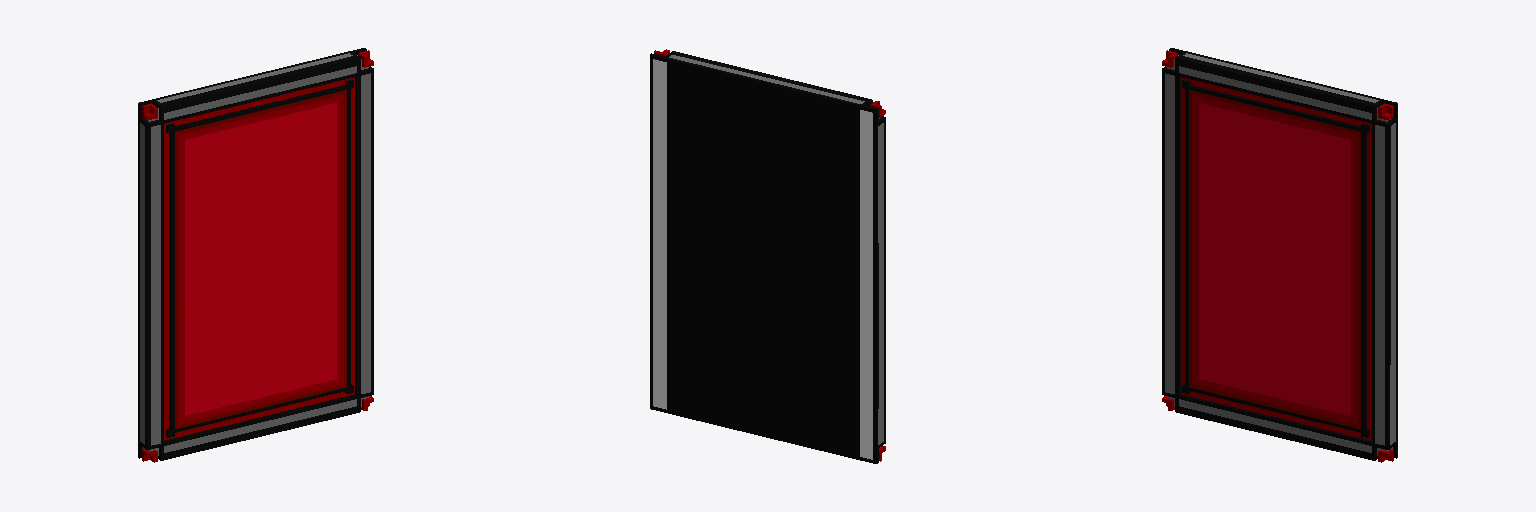
3 views of the same model, side by side, from view 1: azimuth 30°, elevation 25°; view 2: azimuth 150°, elevation 25°; view 3: azimuth 330°, elevation 25° (orthographic).
Parts seen in each view (by area): view 1: Union; view 2: Union; view 3: Union.
Boxes of the visible parts, box(x1,y1,x2,y2) form: Union: box(138, 48, 373, 462); Union: box(650, 49, 885, 463); Union: box(1162, 48, 1397, 462).
Bounding box in the file's own units: 67 × 100 × 5.
1 materials, 1 textured.